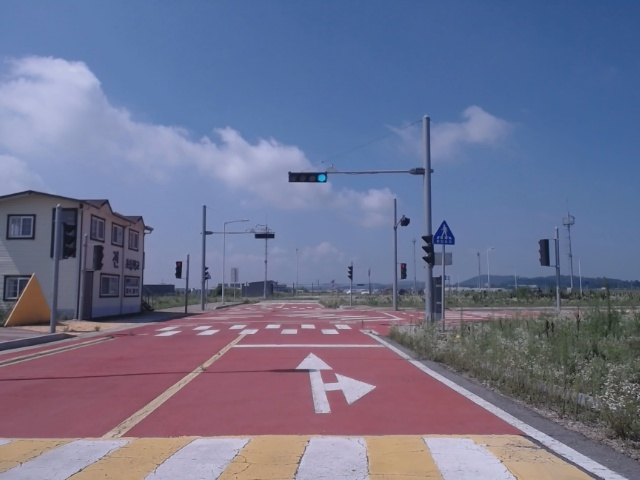straight_green_4: (289, 172, 327, 183)
